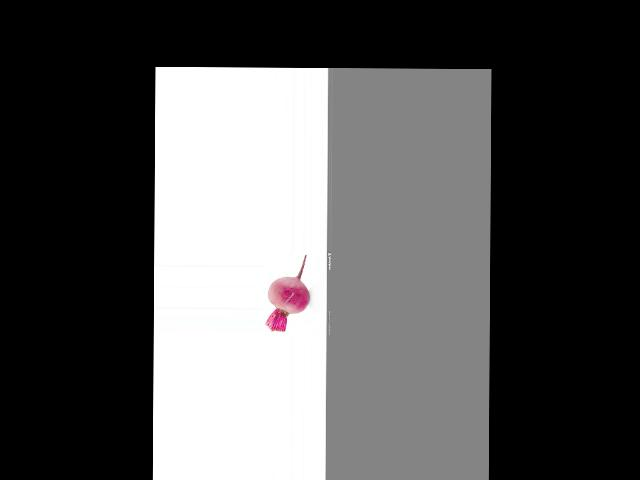beet: (266, 255, 310, 332)
